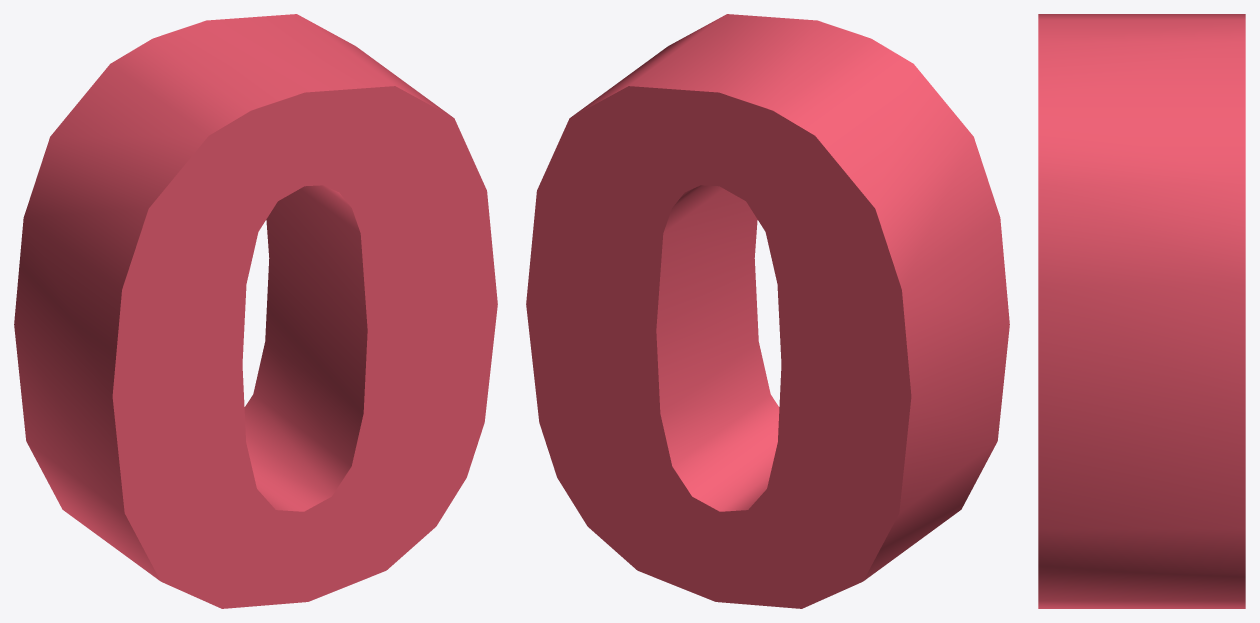
3 views of the same model, side by side, from view 1: azimuth 30°, elevation 25°; view 2: azimuth 150°, elevation 25°; view 3: azimuth 270°, elevation 25° (orthographic). The views are drawn at different scales.
Visible parts, largest first — view 1: Object_4; view 2: Object_4; view 3: Object_4.
Boxes of the visible parts, x1,y1,x2,y2 form: Object_4: (14, 14, 497, 608); Object_4: (526, 14, 1009, 608); Object_4: (1038, 14, 1245, 608).
Size of the model in its own units: 9.04 by 11.44 by 4.
